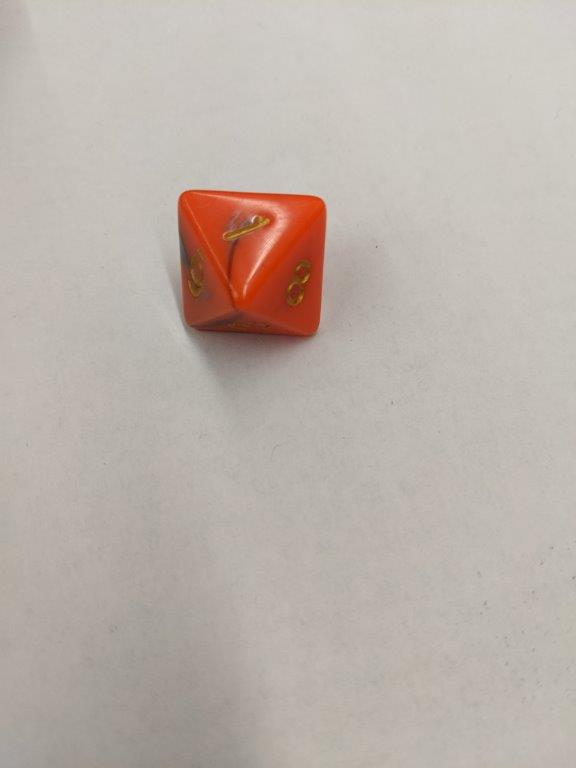d8-1: (175, 186, 327, 340)
